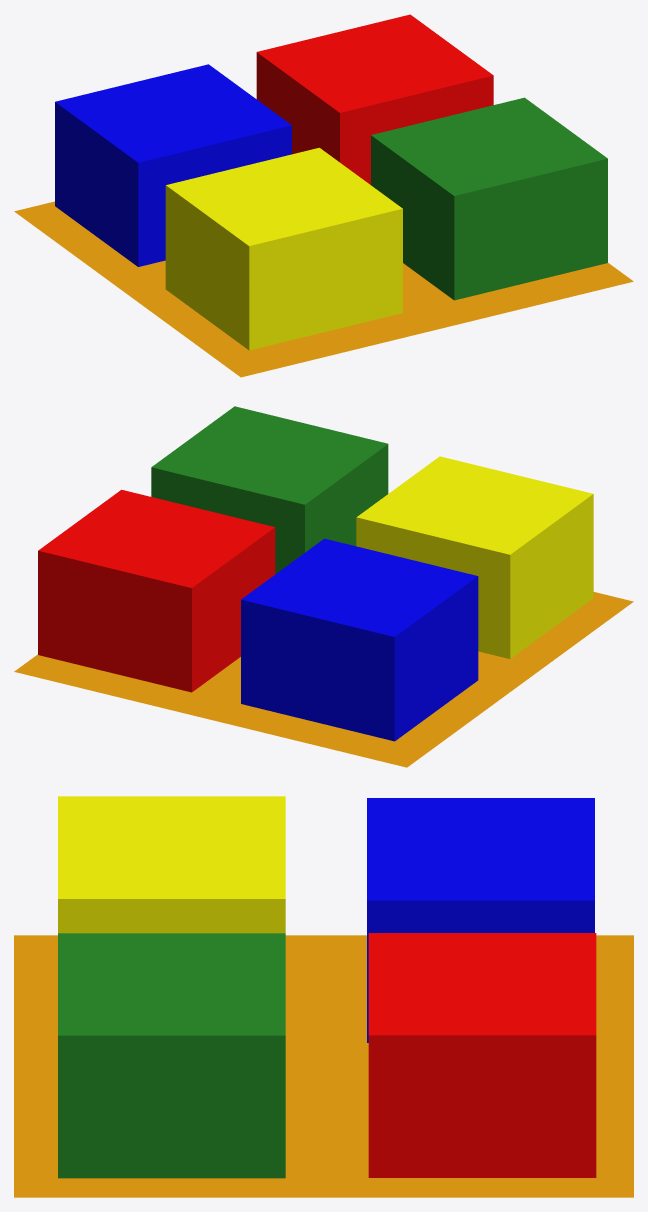
The model's file is Blocks03.fbx.
3 renders of one model, top to bottom at view 1: azimuth 30°, elevation 25°; view 2: azimuth 150°, elevation 25°; view 3: azimuth 270°, elevation 25°, orthographic. The views are drawn at different scales.
Parts seen in each view (by area): view 1: Cube, Cube.001, Cube.003, Cube.002, Grid; view 2: Cube.003, Cube.002, Cube, Cube.001, Grid; view 3: Cube.002, Cube.001, Grid, Cube, Cube.003.
Part boxes in pixels (x1,y1,x2,y2): Cube: (165, 147, 402, 350); Cube.001: (371, 97, 607, 300); Cube.003: (55, 64, 291, 266); Cube.002: (256, 14, 493, 184); Grid: (14, 201, 633, 377); Cube.003: (241, 538, 478, 741); Cube.002: (38, 489, 275, 692); Cube: (356, 456, 593, 658); Cube.001: (151, 406, 388, 573); Grid: (14, 592, 633, 767); Cube.002: (368, 933, 596, 1177); Cube.001: (58, 933, 285, 1178); Grid: (14, 935, 633, 1197); Cube: (58, 796, 285, 933); Cube.003: (367, 798, 594, 1042).
Bounding box in the file's own units: 200 × 55.24 × 200.
